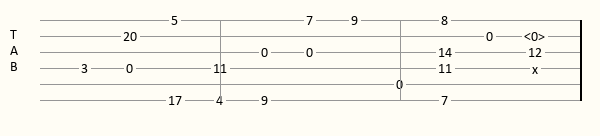0: (126, 62, 137, 75), (261, 46, 272, 59), (306, 46, 317, 59), (396, 78, 407, 91), (486, 30, 497, 43)
11: (213, 62, 231, 75), (438, 62, 456, 75)
12: (528, 46, 546, 59)
14: (438, 46, 456, 59)
17: (168, 94, 186, 107)
20: (123, 30, 141, 43)
3: (81, 62, 92, 75)
4: (216, 94, 227, 107)
5: (171, 14, 182, 27)
7: (306, 14, 317, 27), (441, 94, 452, 107)
8: (441, 14, 452, 27)
9: (261, 94, 272, 107), (351, 14, 362, 27)
harmonic: (524, 30, 549, 43)
x: (532, 63, 542, 74)
